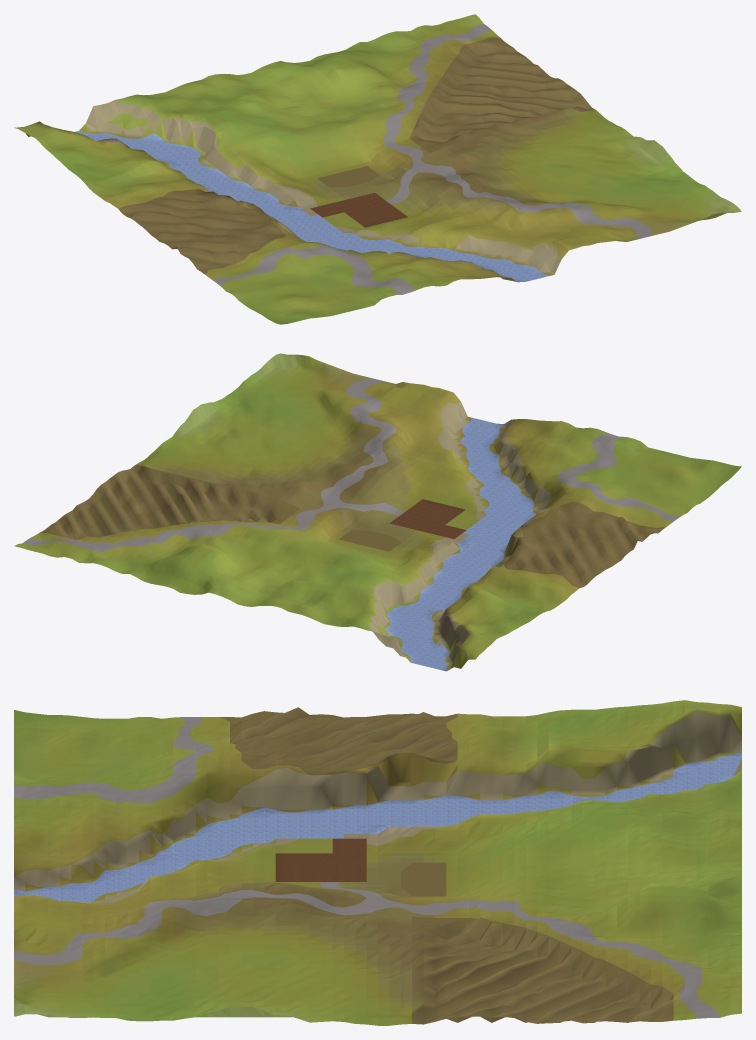
3 renders of one model, top to bottom at view 1: azimuth 30°, elevation 25°; view 2: azimuth 150°, elevation 25°; view 3: azimuth 270°, elevation 25°, orthographic. The views are drawn at different scales.
Parts seen in each view (by area): view 1: model; view 2: model; view 3: model.
Part boxes in pixels (x1,y1,x2,y2): model: (14,14,741,324); model: (14,353,741,671); model: (14,700,741,1025).
Bounding box in the file's own units: 64 × 4.06 × 64.
Materials: 3 (2 with a texture image).
